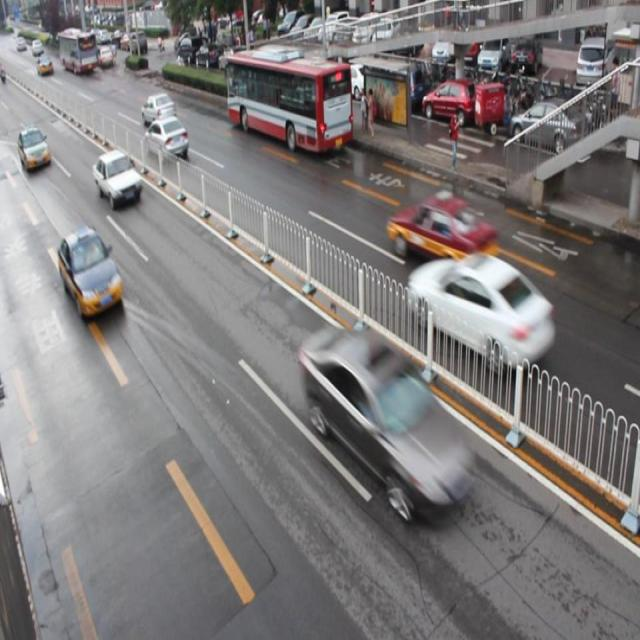car: (302, 322, 470, 520), (408, 251, 556, 370), (388, 194, 497, 269), (57, 224, 123, 316), (92, 147, 141, 205), (145, 114, 188, 160), (142, 92, 176, 126)
van: (227, 50, 351, 153)
